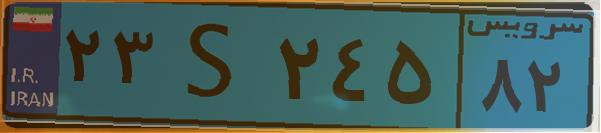2: (270, 28, 330, 110), (57, 26, 110, 100), (525, 38, 570, 115)
3: (110, 28, 158, 98)
4: (330, 28, 385, 110)
5: (385, 28, 445, 110)
8: (475, 38, 525, 113)
S: (158, 12, 270, 120)
